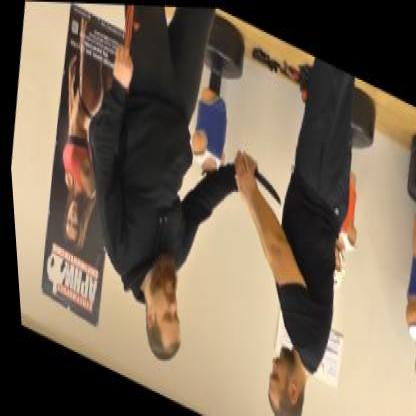knife: (228, 142, 284, 206)
